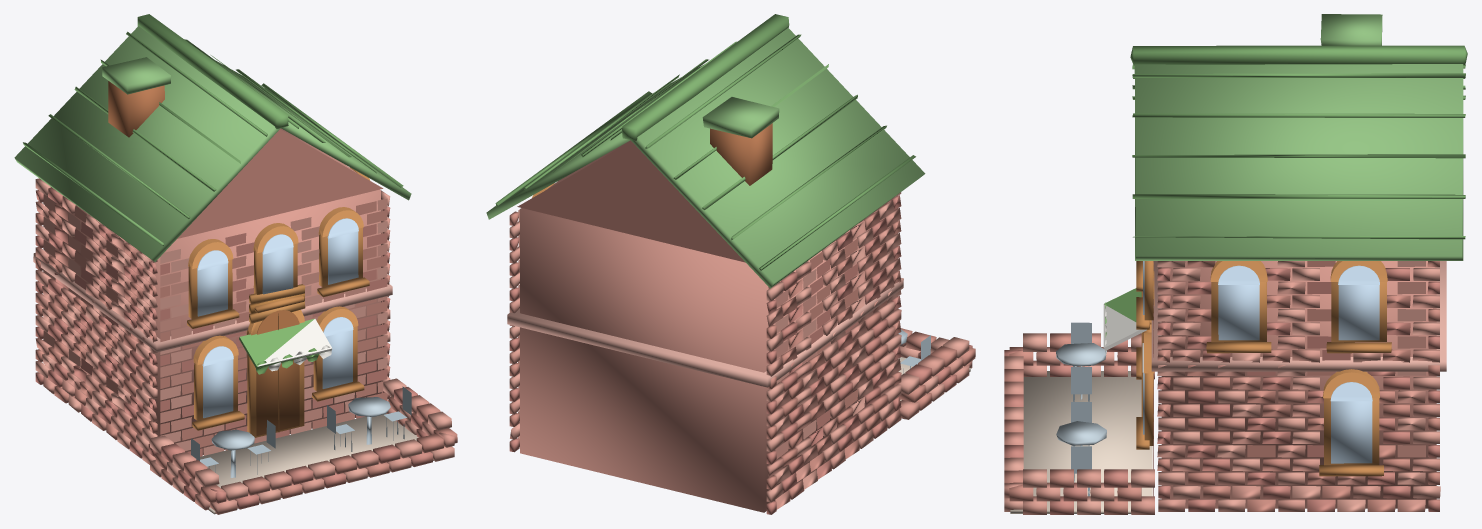
Rendered from western.glb.
3 renders of one model, left to right at view 1: azimuth 30°, elevation 25°; view 2: azimuth 150°, elevation 25°; view 3: azimuth 270°, elevation 25°, orthographic. The views are drawn at different scales.
Visible parts, largest first — view 1: western; view 2: western; view 3: western.
Boxes of the visible parts, x1,y1,x2,y2 form: western: (14, 14, 457, 514); western: (486, 14, 975, 514); western: (1004, 14, 1467, 514).
Size of the model in its own units: 2.4 by 2.91 by 3.09.
